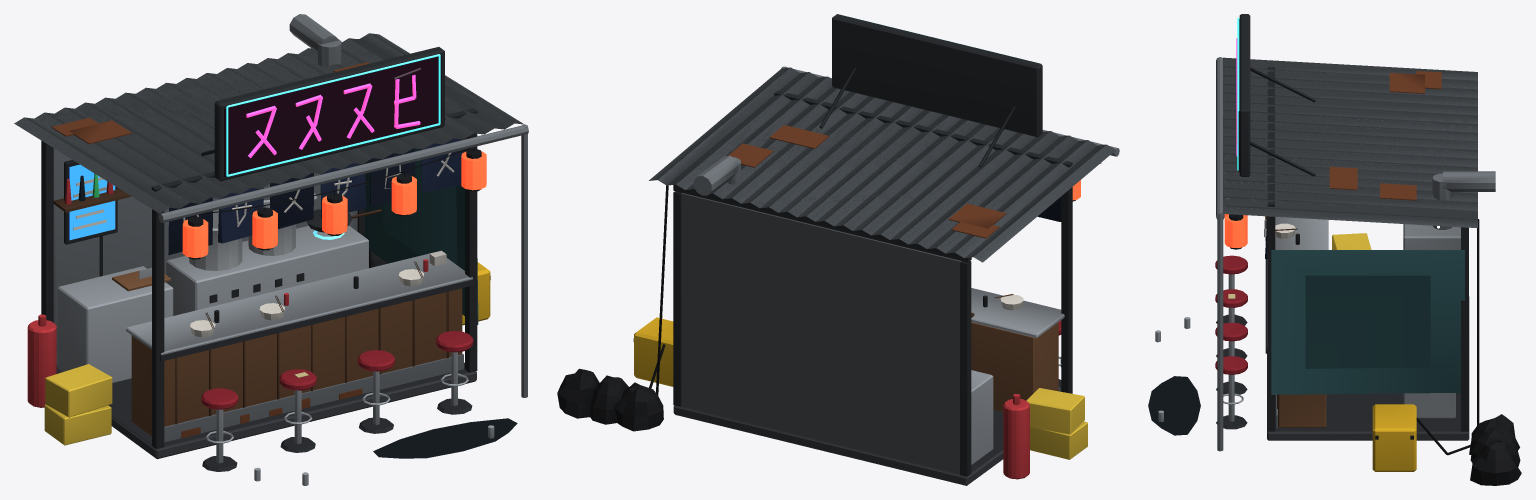
Rendered from cp_ramen_stall.glb.
3 renders of one model, left to right at view 1: azimuth 30°, elevation 25°; view 2: azimuth 150°, elevation 25°; view 3: azimuth 270°, elevation 25°, orthographic. The views are drawn at different scales.
Parts seen in each view (by area): view 1: cp_ramen_stall, part_roof, part_litter, part_downpipe, part_stool_1, part_stool_2, part_stool_3, part_stool_4; view 2: cp_ramen_stall, part_roof; view 3: cp_ramen_stall, part_roof, part_litter, part_downpipe, part_stool_4, part_stool_3, part_stool_1, part_stool_2.
Part boxes in pixels (x1,y1,x2,y2): cp_ramen_stall: (27,14,490,459); part_roof: (14,33,528,259); part_litter: (254,418,517,485); part_downpipe: (521,124,527,397); part_stool_1: (201,388,238,471); part_stool_2: (279,369,316,452); part_stool_3: (357,350,394,433); part_stool_4: (436,331,473,414); cp_ramen_stall: (557,155,1087,485); part_roof: (649,14,1119,262); cp_ramen_stall: (1265,171,1521,485); part_roof: (1216,14,1477,259); part_litter: (1148,317,1200,435); part_downpipe: (1217,212,1223,451); part_stool_4: (1215,356,1247,429); part_stool_3: (1215,322,1247,394); part_stool_1: (1215,255,1247,325); part_stool_2: (1215,289,1247,358).
Bounding box in the file's own units: 5.56 × 3.9 × 4.25.
